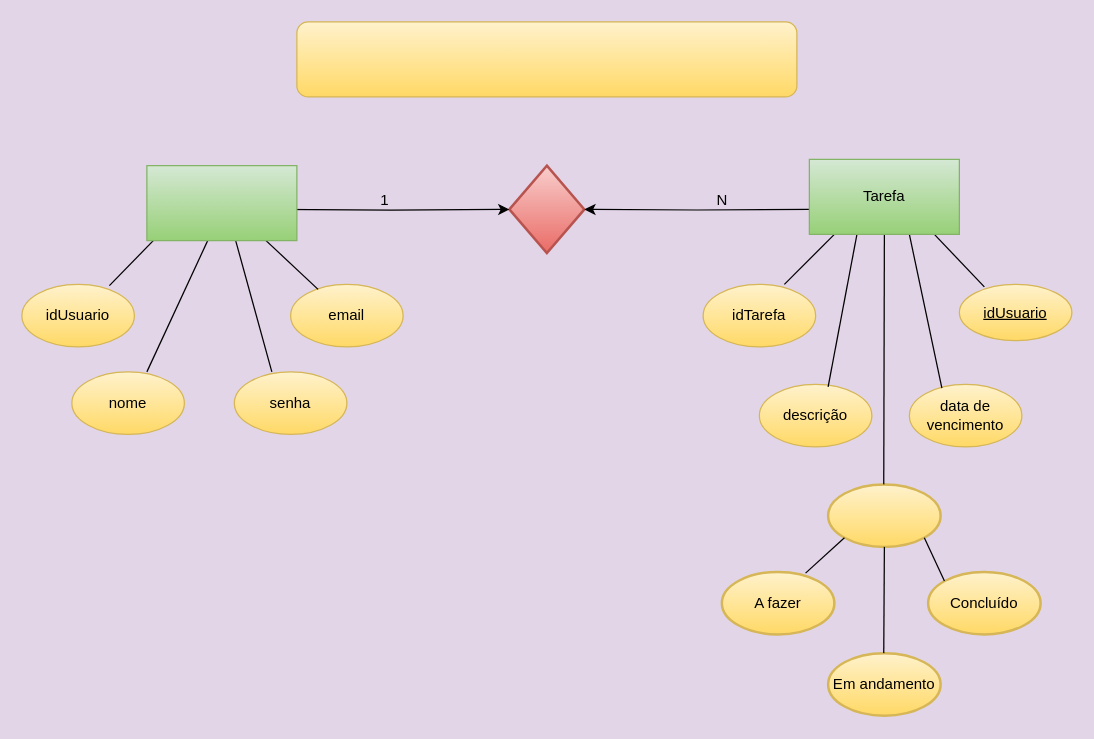
The diagram is 1094 pixels wide and 739 high, and some of its shapes have lost their labels. Each missing label, with the box of its shape:
Gerenciamento de Tarefas: (296, 21, 797, 97)
possui: (508, 164, 585, 254)
status: (826, 482, 941, 548)
Usuário: (146, 164, 297, 241)
